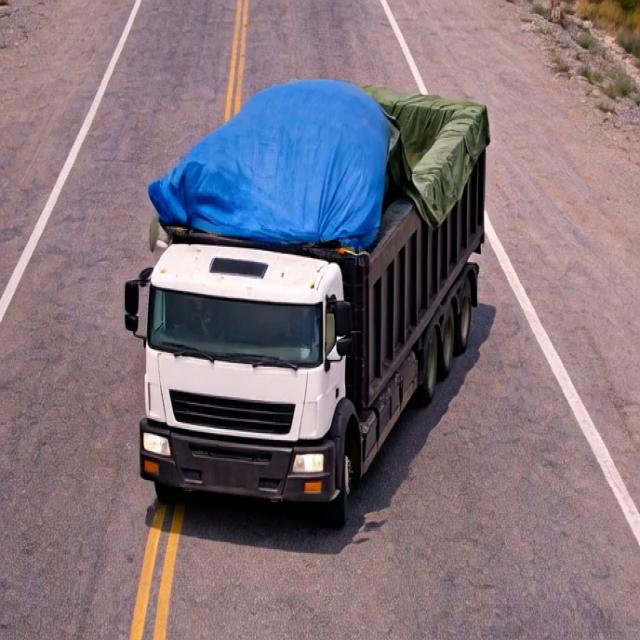trailer: (148, 74, 487, 251)
truck: (128, 57, 518, 532)
